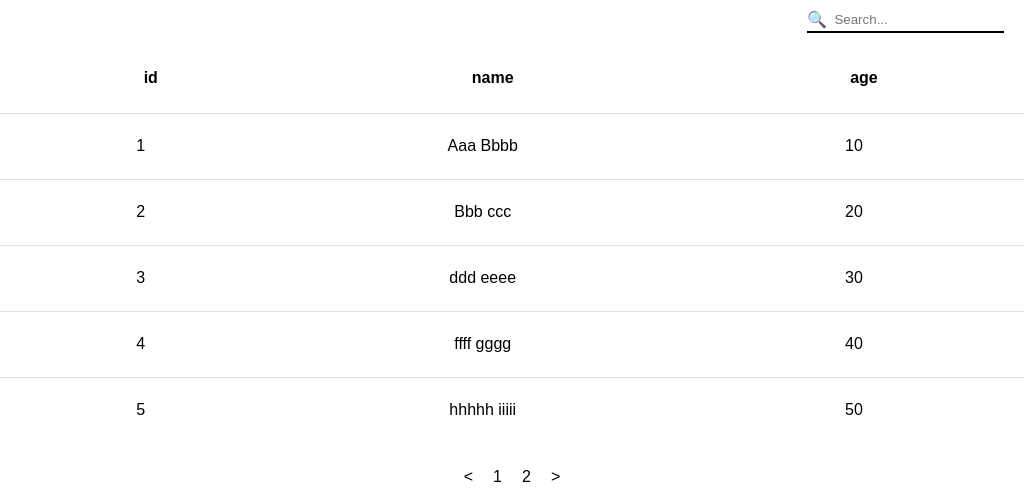
Test: CustomTable › Sorting by age
Click the text "age".
click(864, 77)  # box [845, 64, 883, 91]
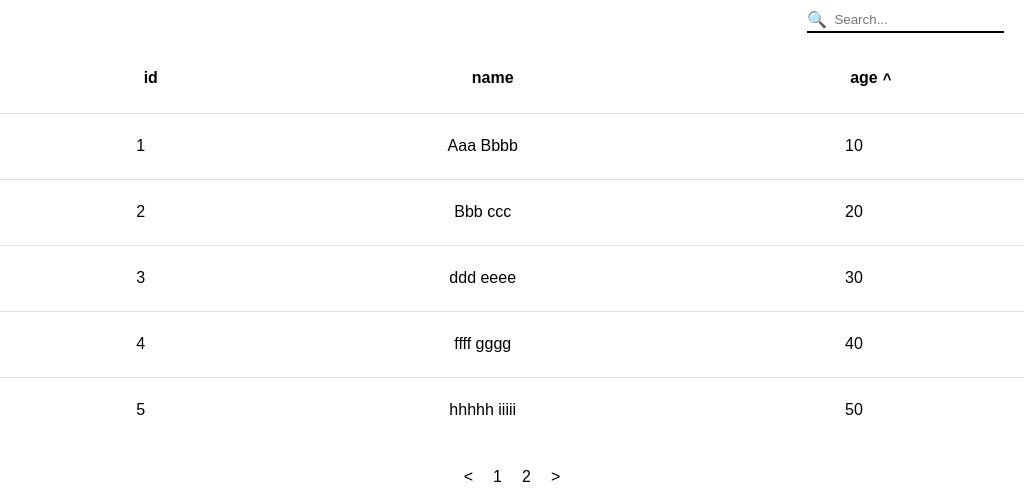
Click the text "age".
click(864, 77)  # box [845, 64, 883, 91]
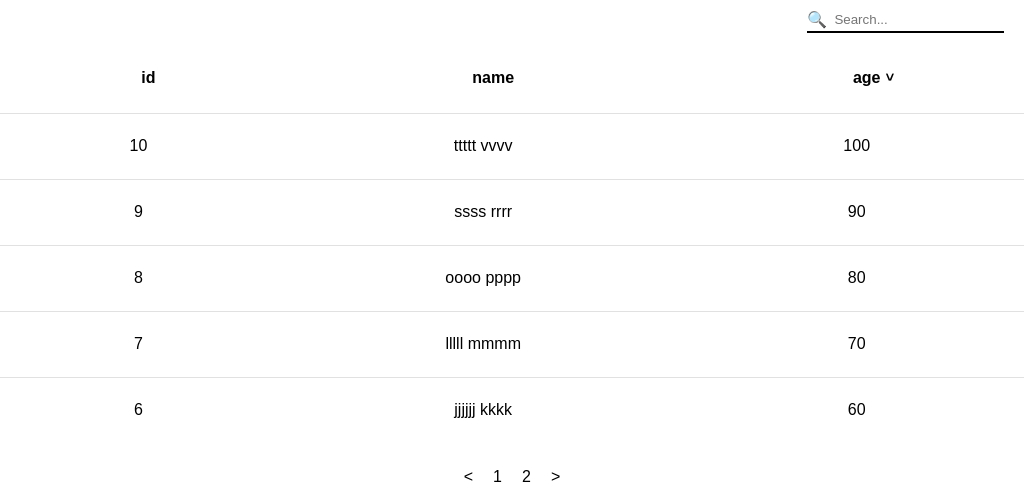
Expected: the text "80" is shown, [689, 245, 1023, 311]
